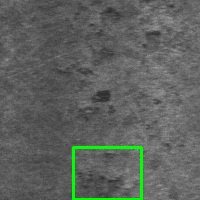rolled-in_scale: (73, 147, 141, 199)
